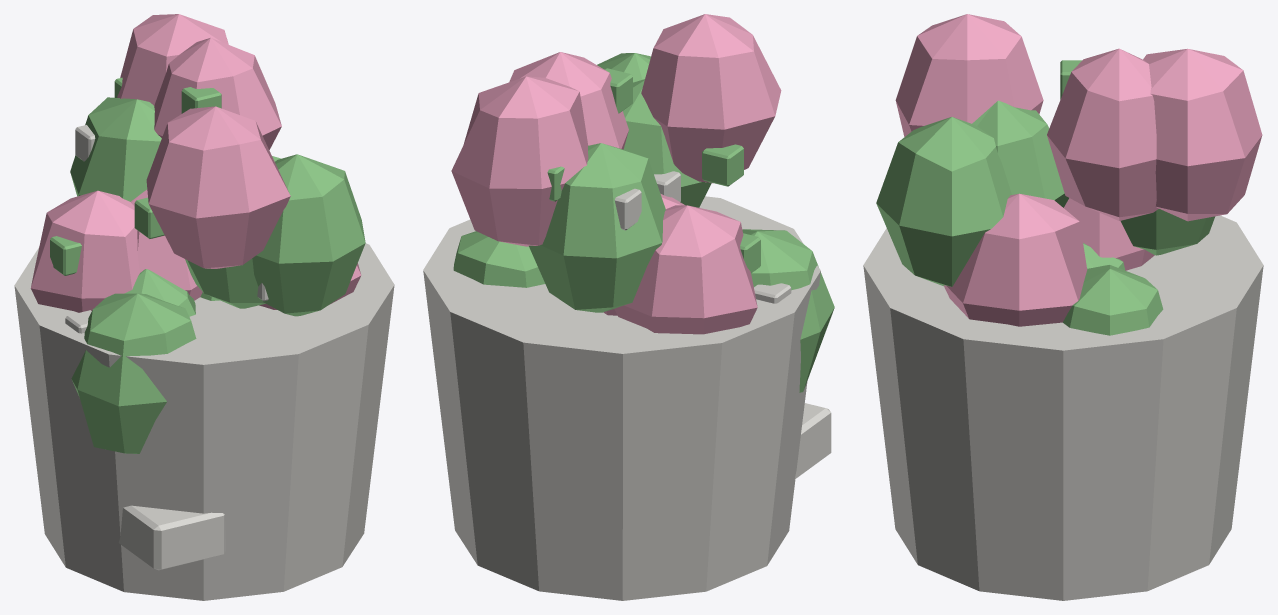
The model's file is b08_hanging_petunia_basket.glb.
The picture shows the model from 3 angles, left to right: view 1: azimuth 30°, elevation 25°; view 2: azimuth 150°, elevation 25°; view 3: azimuth 270°, elevation 25°; orthographic projection. The views are drawn at different scales.
Visible parts, largest first — view 1: b08_hanging_petunia_basket; view 2: b08_hanging_petunia_basket; view 3: b08_hanging_petunia_basket.
Boxes of the visible parts, x1,y1,x2,y2 form: b08_hanging_petunia_basket: (14,14,394,600); b08_hanging_petunia_basket: (423,14,834,600); b08_hanging_petunia_basket: (863,14,1263,600).
Bounding box in the file's own units: 0.699 × 0.949 × 0.692.
